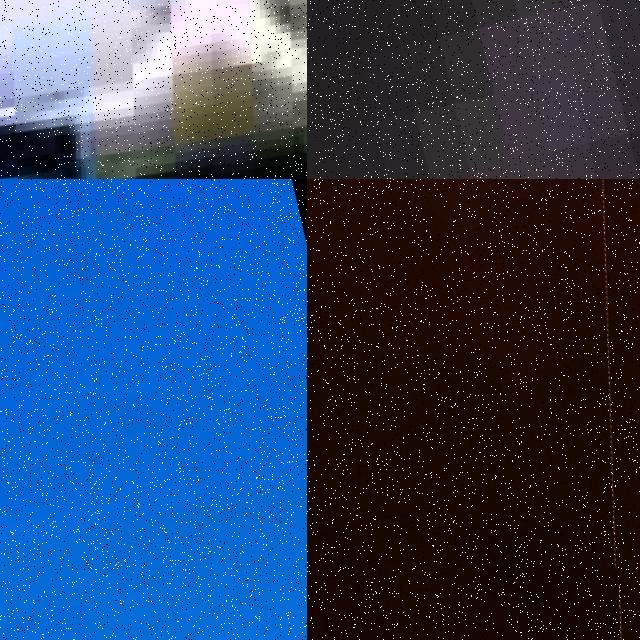drone: (514, 179, 640, 640), (0, 0, 307, 179)
